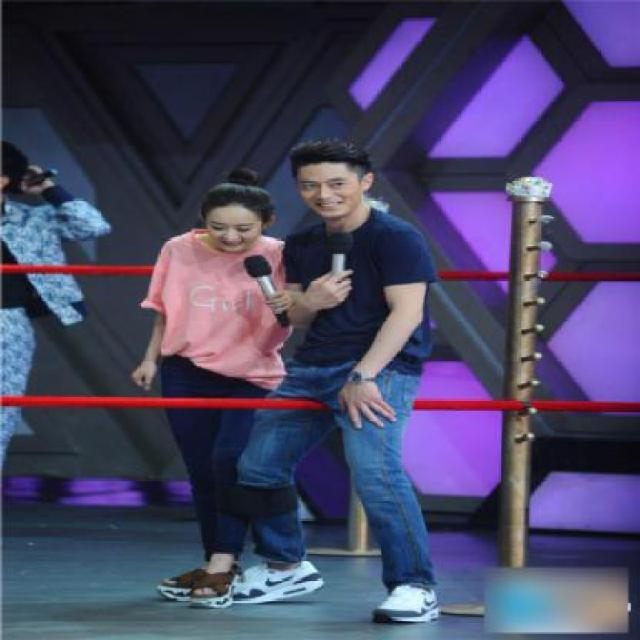Person: (261, 132, 459, 619), (147, 173, 290, 589)
